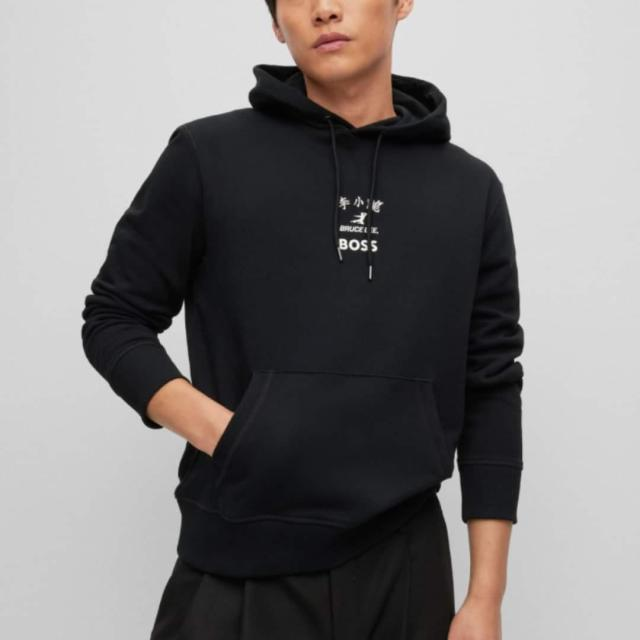Standing: (80, 0, 542, 640)
